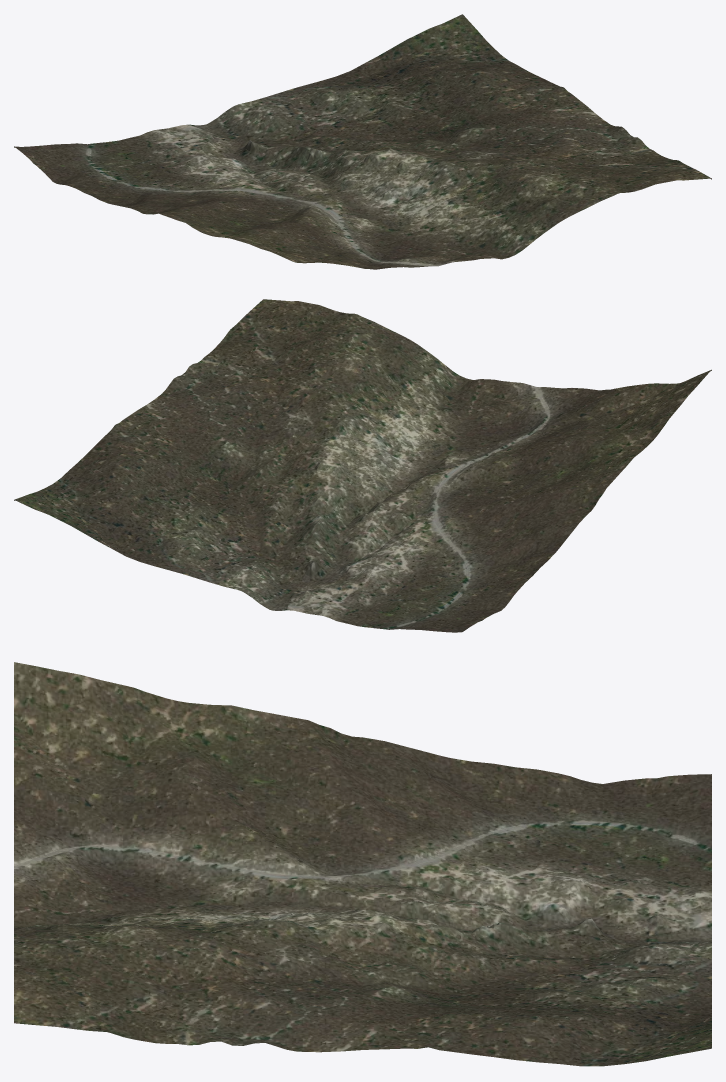
3 views of the same model, one above another, from view 1: azimuth 30°, elevation 25°; view 2: azimuth 150°, elevation 25°; view 3: azimuth 270°, elevation 25° (orthographic). The views are drawn at different scales.
Bounding box in the file's own units: 1000 × 226 × 963.
1 material, 1 textured.
